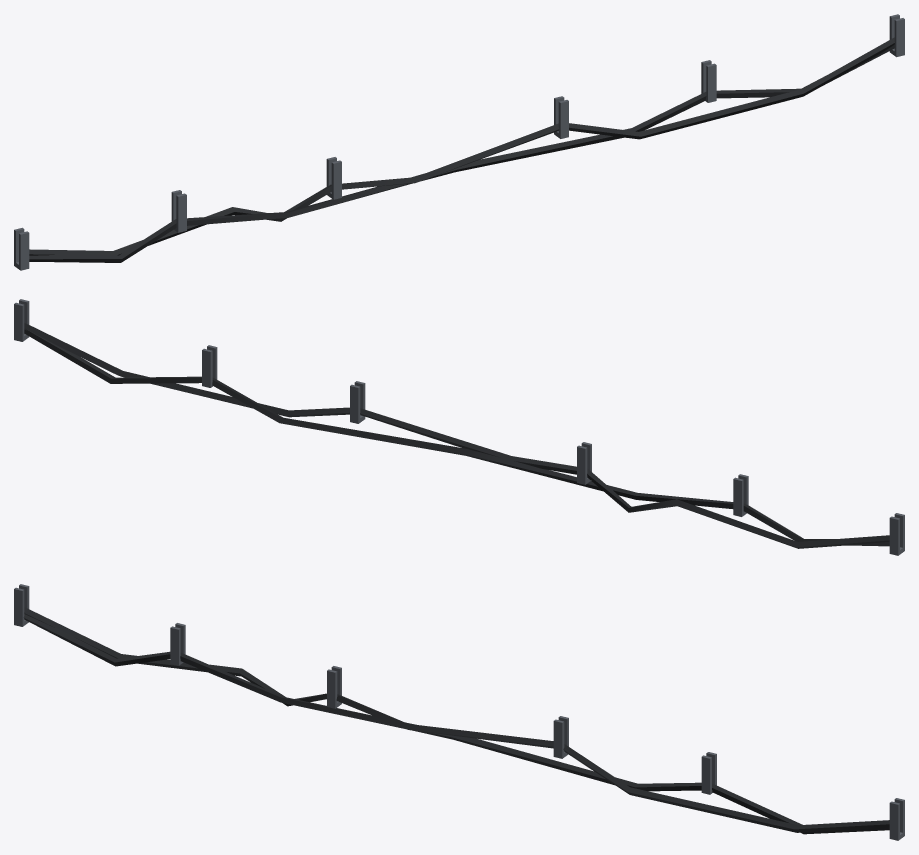
The model's file is SM_Prop_Wire_Roof_01.fbx.
3 renders of one model, top to bottom at view 1: azimuth 30°, elevation 25°; view 2: azimuth 150°, elevation 25°; view 3: azimuth 330°, elevation 25°, orthographic.
Parts seen in each view (by area): view 1: SM_Prop_Wire_Roof_01; view 2: SM_Prop_Wire_Roof_01; view 3: SM_Prop_Wire_Roof_01.
Boxes of the visible parts, bbox=[...] form: SM_Prop_Wire_Roof_01: bbox=[14, 14, 904, 270]; SM_Prop_Wire_Roof_01: bbox=[14, 299, 904, 555]; SM_Prop_Wire_Roof_01: bbox=[14, 584, 904, 840].
Size of the model in its own units: 620 by 38.26 by 16.18.
